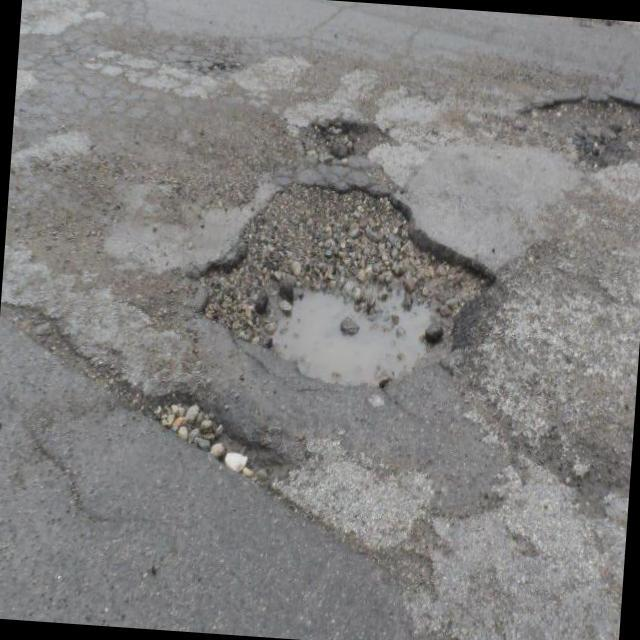Pothole: (201, 181, 492, 385), (130, 387, 295, 477), (298, 119, 385, 160)
